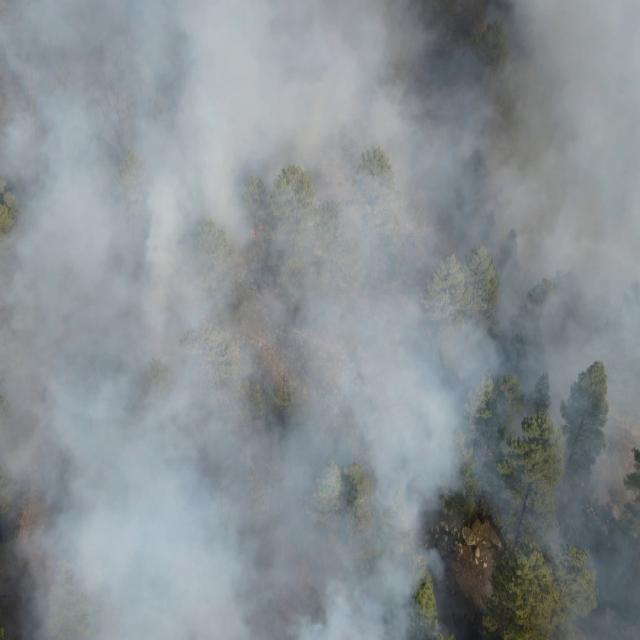smoke: (1, 0, 439, 640), (441, 1, 640, 525), (524, 527, 640, 640)
